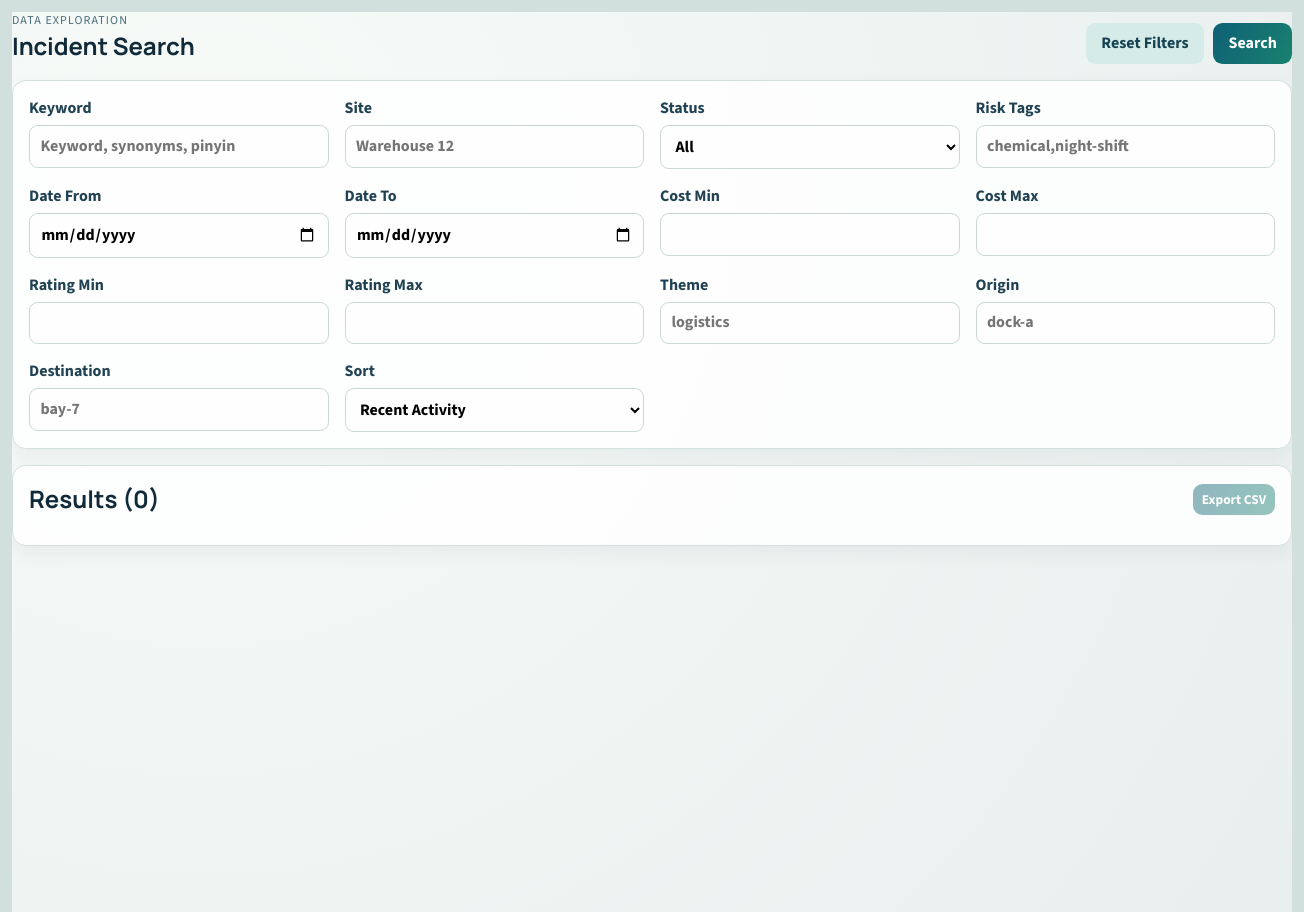
Search.vue › shows "No incidents match" when results are empty
What coordinates should you click on to do the following:
click the button "Search"
I would click on:
 (1253, 44)
Its box is [1213,23,1292,64].
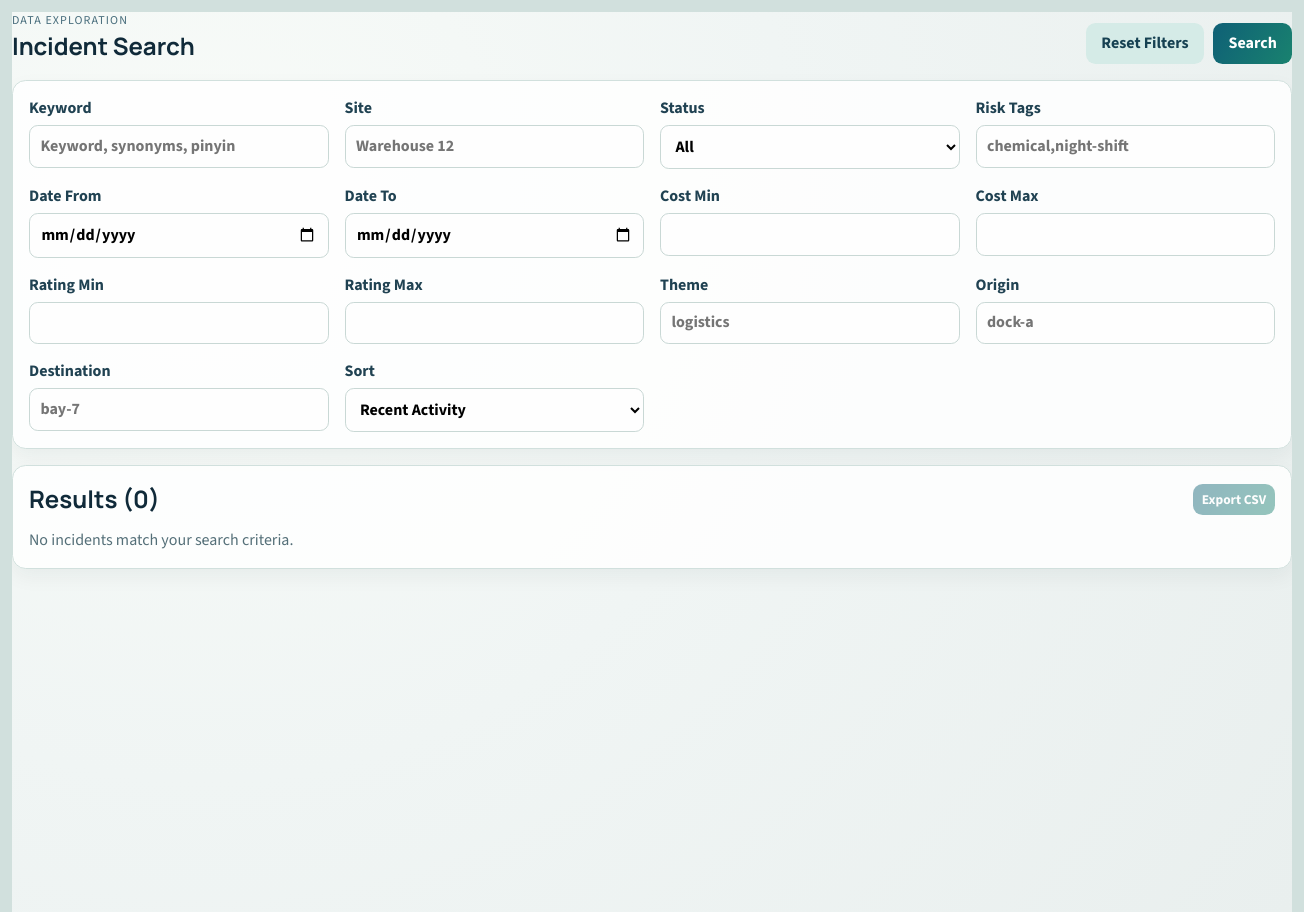
Check: the text "No incidents match your search criteria." is shown, box [29,529,293,551]
